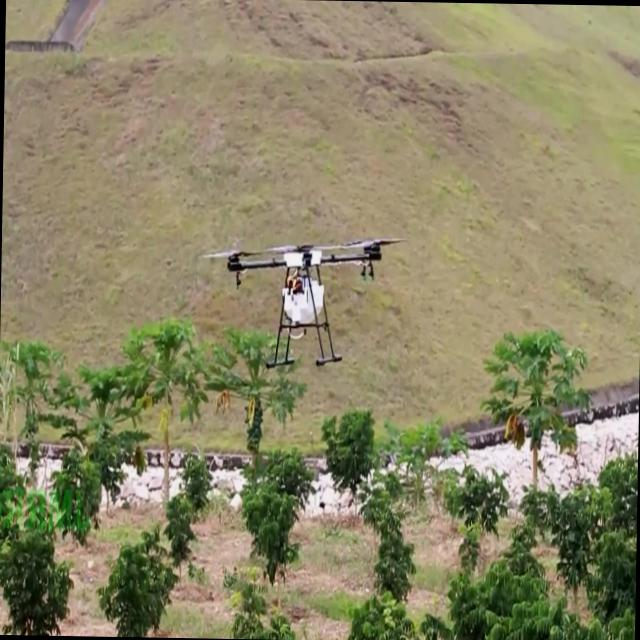drone: (201, 232, 403, 371)
